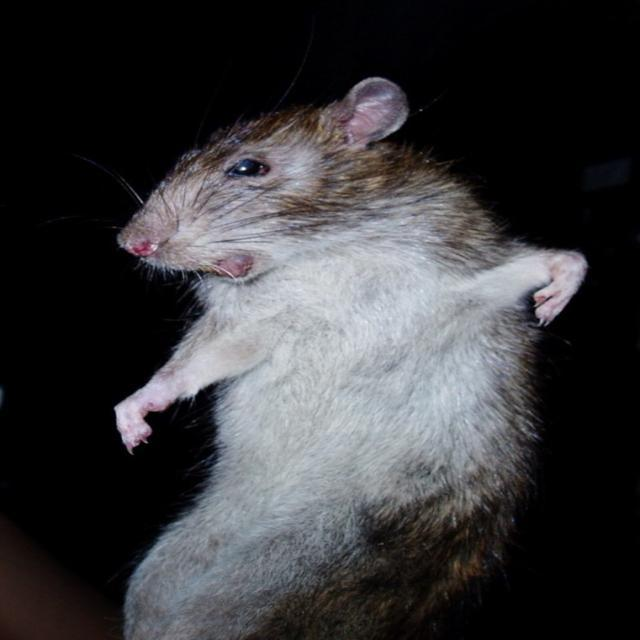rat: (36, 29, 586, 639)
